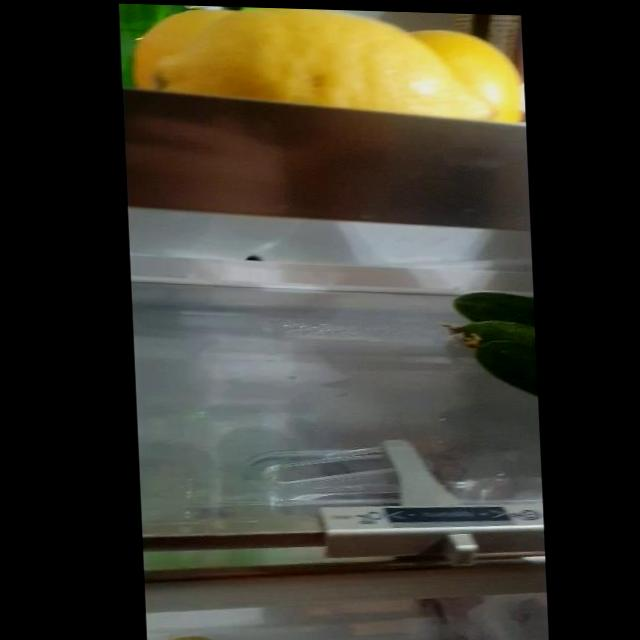lemon: (158, 5, 493, 120)
